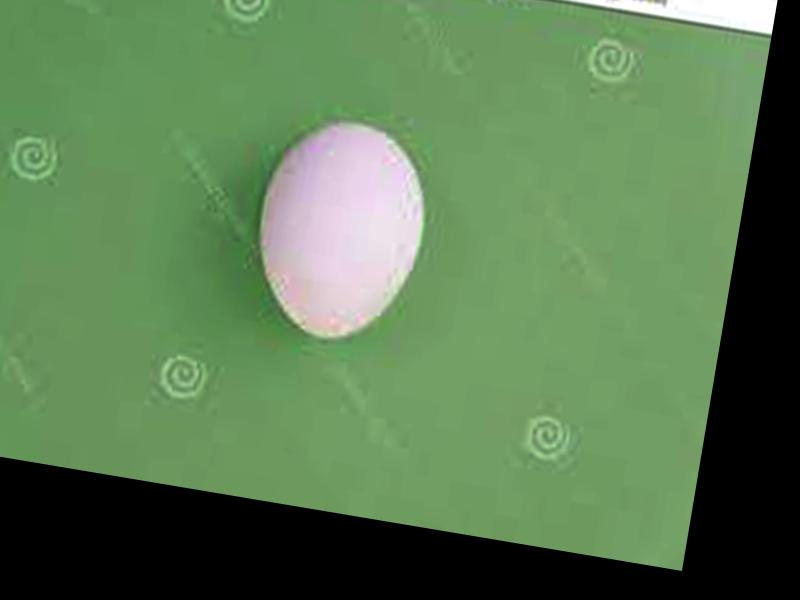Eggs: (241, 110, 435, 348)
